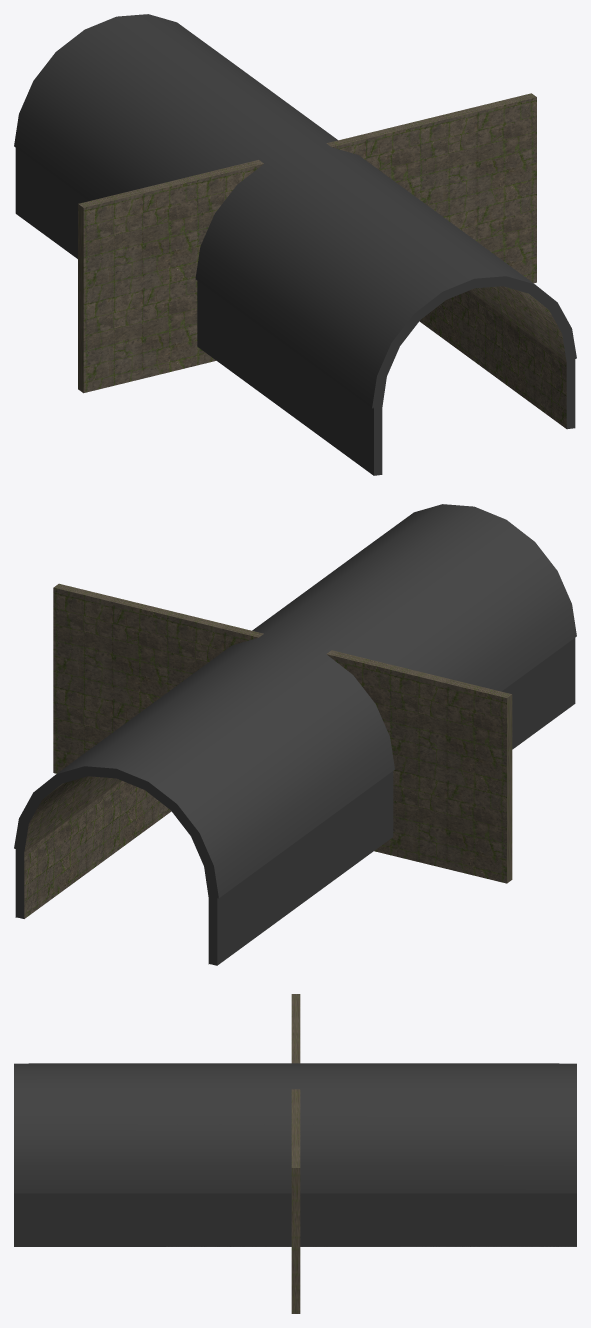
The model's file is vault-center-full.fbx.
The picture shows the model from 3 angles, top to bottom: view 1: azimuth 30°, elevation 25°; view 2: azimuth 150°, elevation 25°; view 3: azimuth 270°, elevation 25°; orthographic projection. The views are drawn at different scales.
Visible parts, largest first — view 1: Tunnel.001, Куб; view 2: Tunnel.001, Куб; view 3: Tunnel.001, Куб.
Part boxes in pixels (bbox=[...]): Tunnel.001: bbox=[14, 14, 576, 475]; Куб: bbox=[78, 93, 536, 393]; Tunnel.001: bbox=[14, 504, 576, 965]; Куб: bbox=[53, 583, 512, 883]; Tunnel.001: bbox=[14, 1063, 576, 1246]; Куб: bbox=[291, 994, 300, 1313].
Bounding box in the file's own units: 757 × 306 × 1035.
